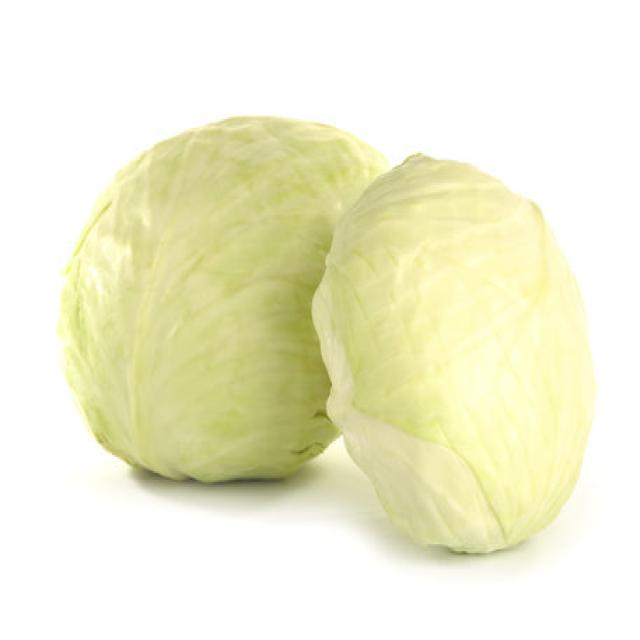Cabbage: (56, 112, 391, 484), (309, 149, 596, 555)
